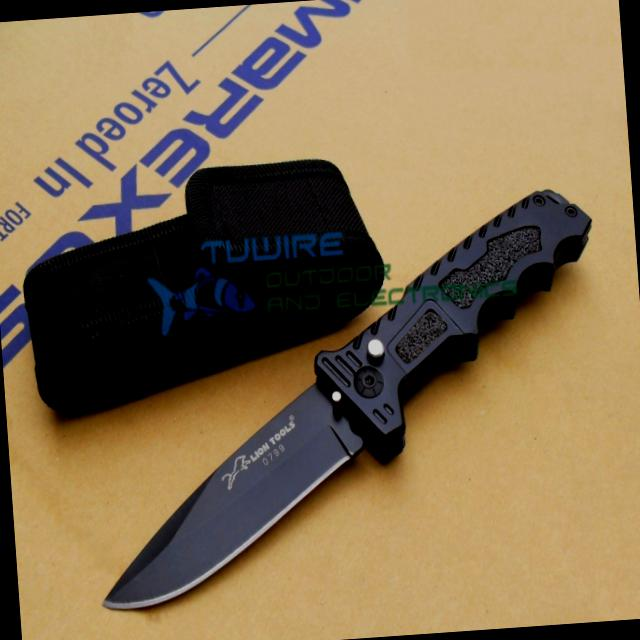knife: (79, 376, 376, 621)
